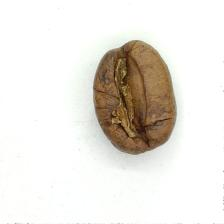NG: (102, 49, 161, 146)
